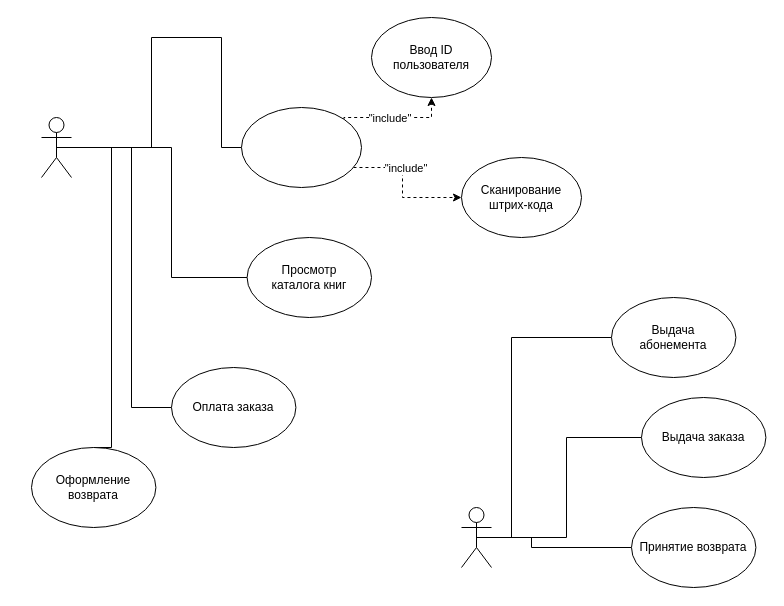
This 784x606 diagram has some shape labels left out. The centre of each missing label's shape, as x and y in pixels:
Авторизация: (x=301, y=147)
Библиотекарь: (x=476, y=537)
Пользователь: (x=56, y=147)
